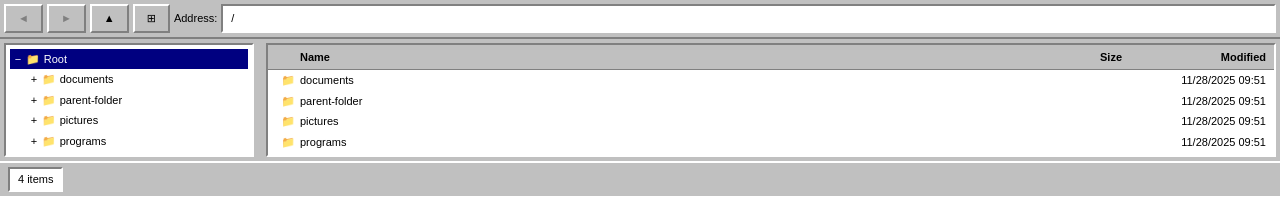
Test: Explorer - Folder Tree Expand/Collapse › should update file list when folder is selected in tree
The width and height of the screenshot is (1280, 213).
# Click on the first one (in the tree)
Click the text "parent-folder" below "Root" at x=91, y=100, box [60,92,122,108]
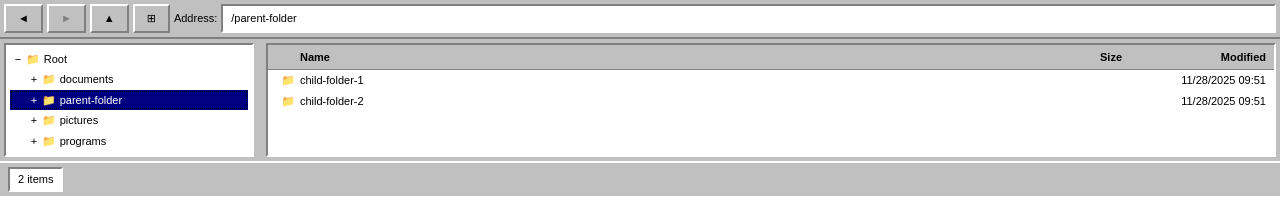
Expected: the field named "Address bar" holds "/parent-folder", [221,4,1276,32]
